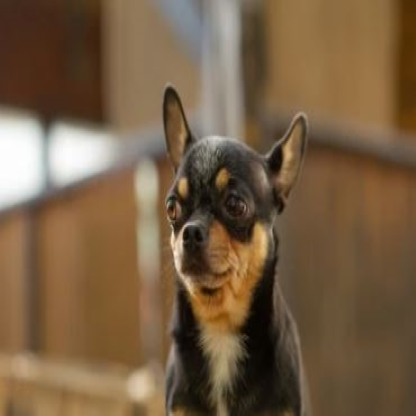chihuahua: (160, 81, 312, 415)
